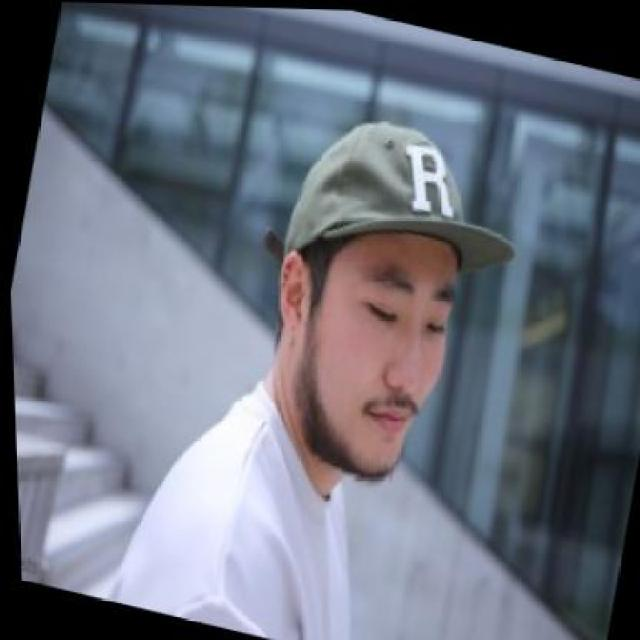hat: (261, 99, 536, 303)
